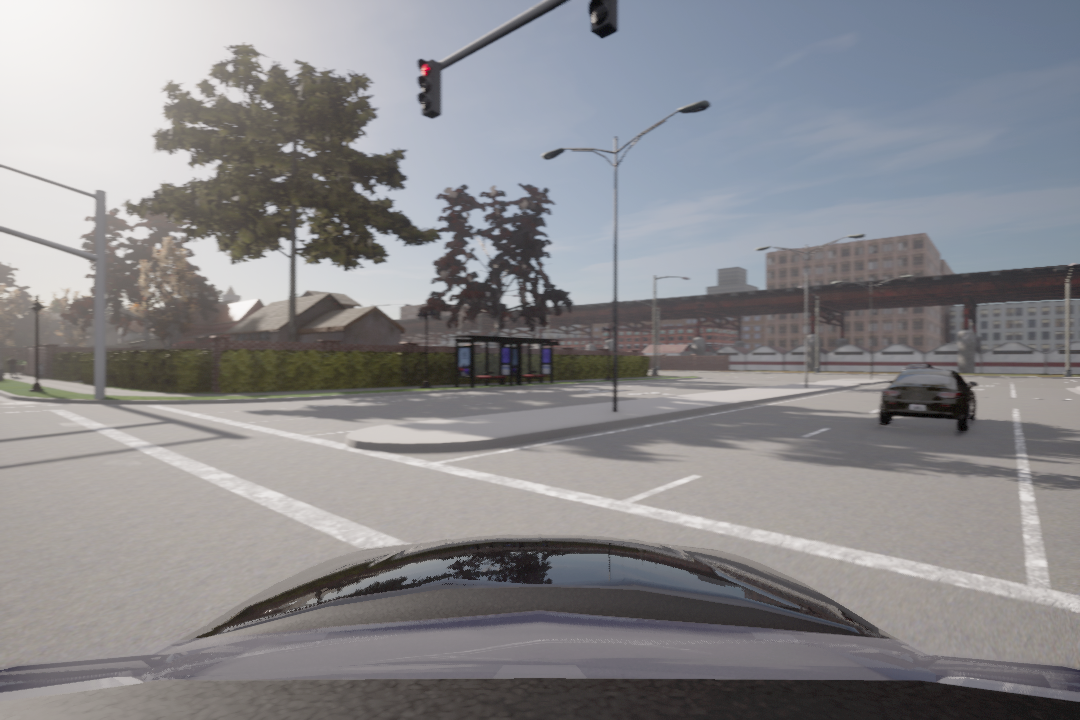TrafficLight: (413, 56, 445, 122)
